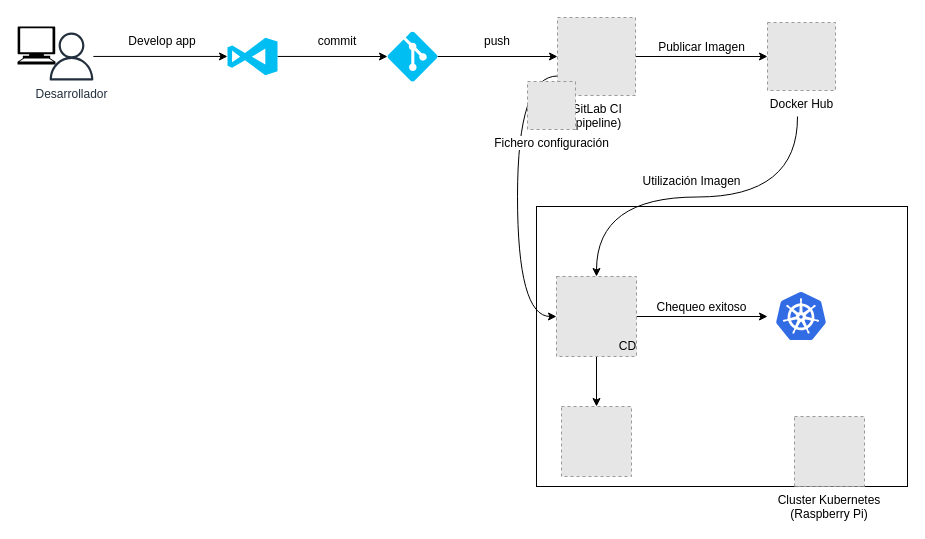
Some shapes in this 925 by 539 pixel diagram are drawn without their labels. Grey dashed boxes stand in for pictures. Each missing label, with the centre of its shape:
"Repositorio App" belongs at (x=412, y=56).
"Visual Studio" belongs at (x=252, y=56).
